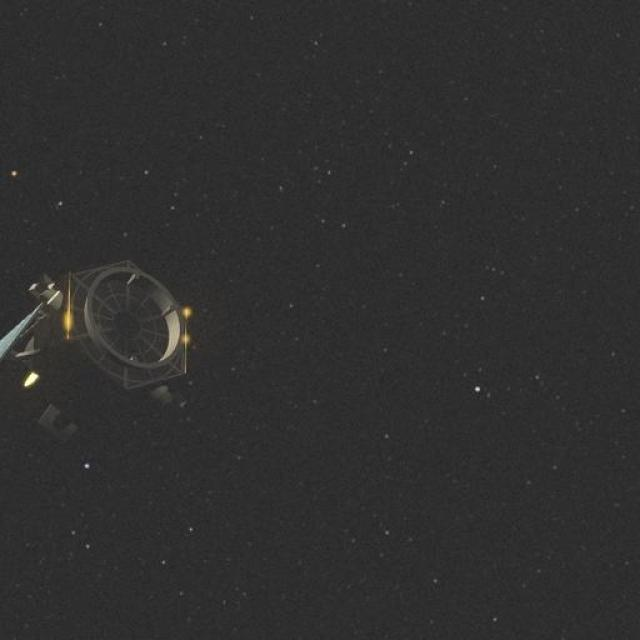earth_observation_sat_1: (0, 234, 206, 481)
